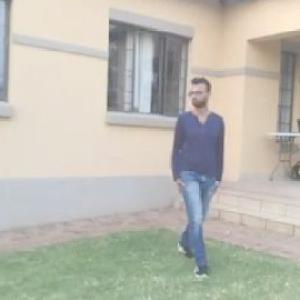follow: (168, 69, 231, 280)
